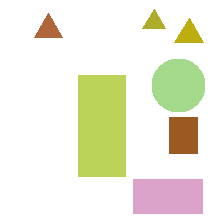circle: (152, 59, 204, 111)
rectangle: (78, 75, 125, 176), (133, 179, 202, 213), (169, 117, 197, 153)
triangle: (174, 18, 203, 42), (34, 13, 62, 37), (142, 9, 165, 28)
